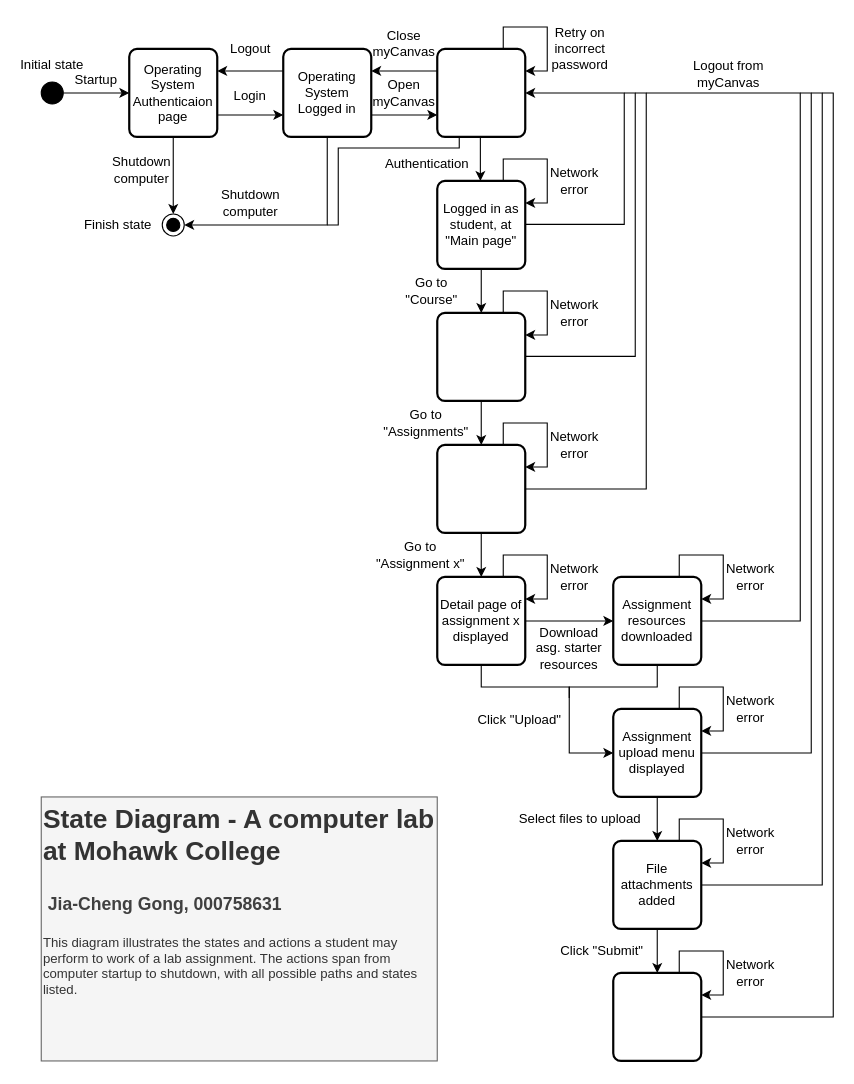
Some shapes in this 854 by 1084 pixel diagram are drawn without their labels. The shapes that lost their labels are listed below. From the top down, each one's centre as x and y in pixels, then its label:
(x=481, y=92): myCanvas Authentication page
(x=481, y=356): Course Home page loaded
(x=481, y=488): List of assignment displayed
(x=657, y=1016): Assignment submitted
